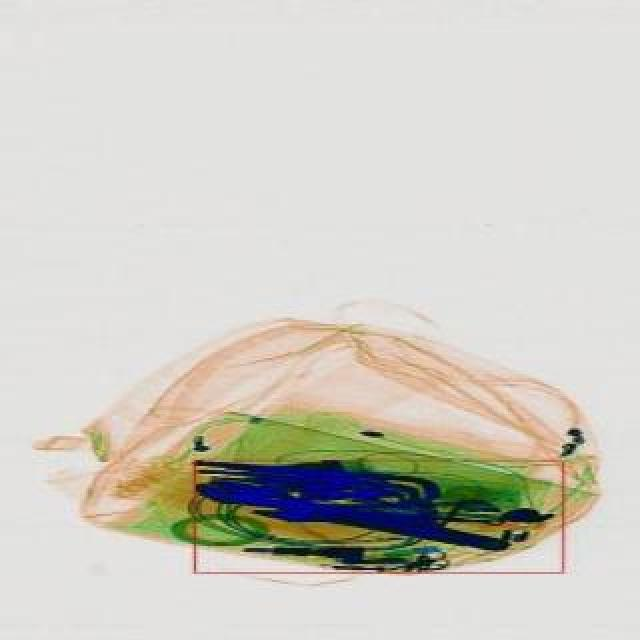scissors: (190, 468, 508, 562)
